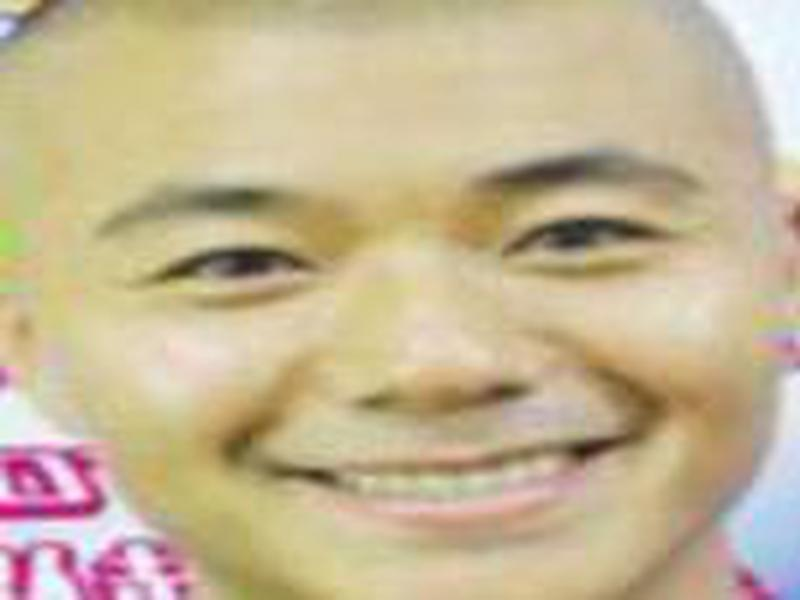without_mask: (17, 14, 774, 593)
